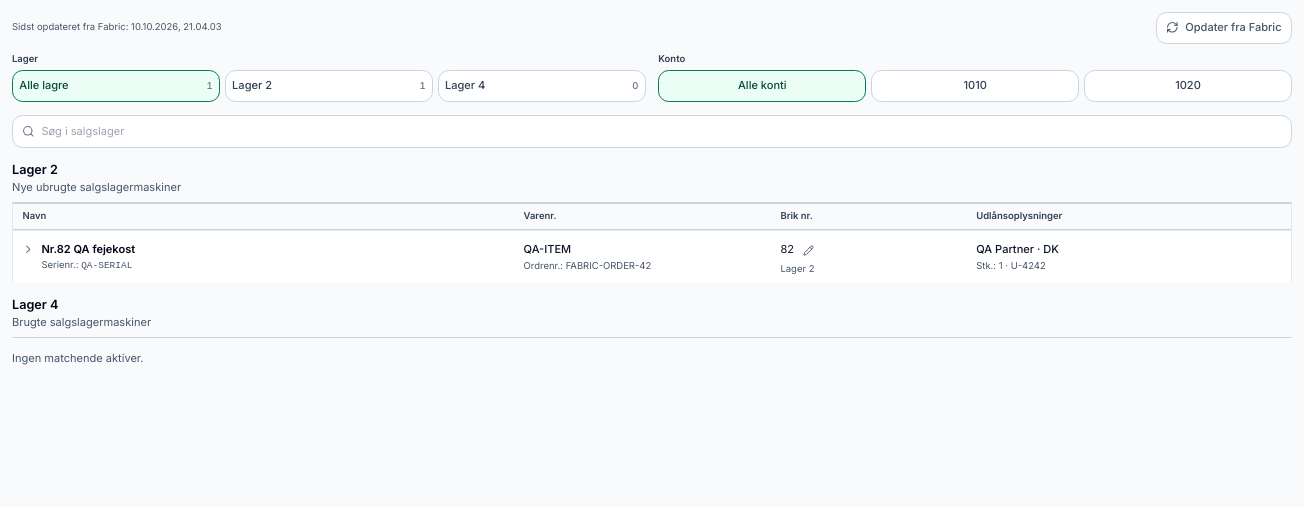
Test: single Fabric stock dataset › shows the compact four-column summary and only uses the canonical active loan as borrower
Later steps or results of the test are not shown.
Expected: the text "Navn" is shown, x1=22 y1=210 x2=46 y2=221
Expected: the text "Varenr." is shown, x1=524 y1=210 x2=556 y2=221
Click the text "Nr.82 QA fejekost" at (88, 249), box x1=41 y1=242 x2=135 y2=256
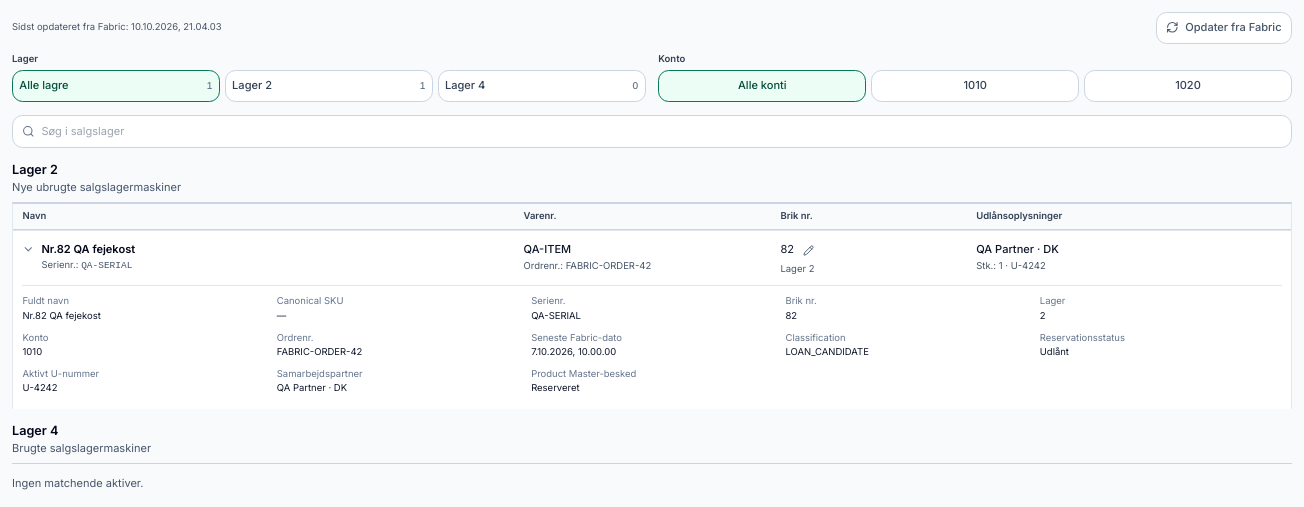
Expected: the text "Canonical SKU" is shown, x1=277 y1=295 x2=344 y2=306
Expected: the text "Udlånt" is shown, x1=1040 y1=346 x2=1069 y2=357
